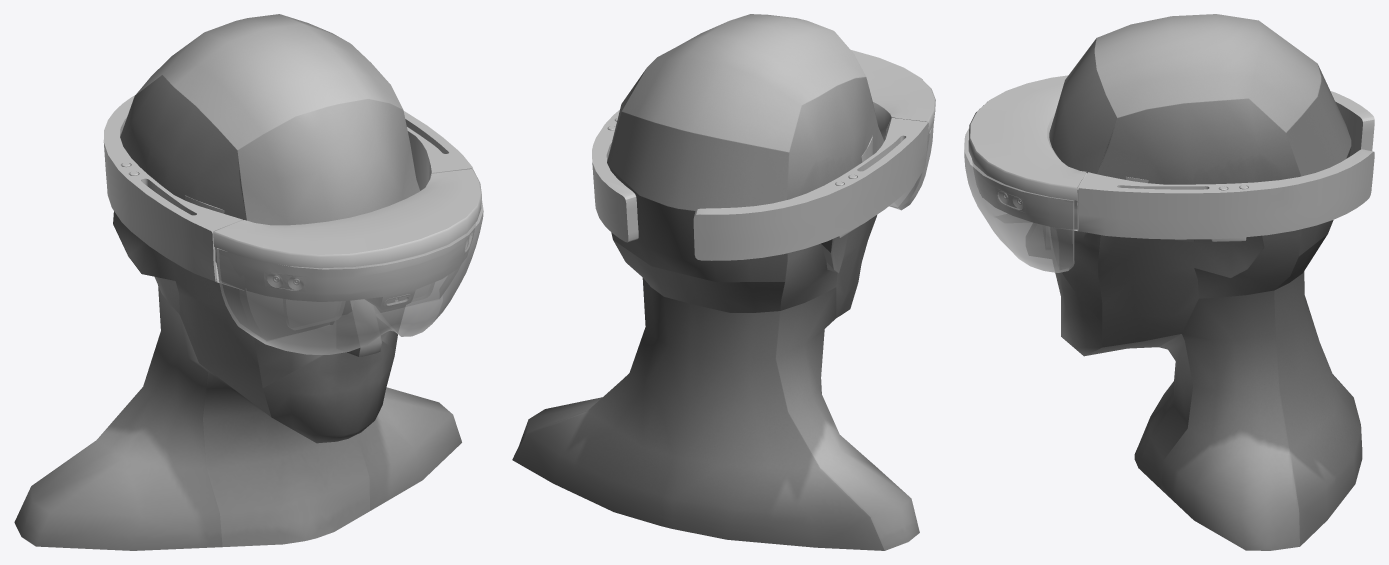
Rendered from Avatar_Hololens.fbx.
The picture shows the model from 3 angles, left to right: view 1: azimuth 30°, elevation 25°; view 2: azimuth 150°, elevation 25°; view 3: azimuth 270°, elevation 25°; orthographic projection. The views are drawn at different scales.
Visible parts, largest first — view 1: avatar, Hololens, Visor; view 2: avatar, Hololens, Visor; view 3: avatar, Hololens, Visor.
Boxes of the visible parts, x1,y1,x2,y2 form: avatar: [14, 14, 461, 550]; Hololens: [103, 95, 481, 309]; Visor: [216, 199, 483, 354]; avatar: [512, 14, 919, 550]; Hololens: [592, 50, 935, 260]; Visor: [889, 124, 933, 210]; avatar: [1026, 14, 1362, 550]; Hololens: [968, 75, 1374, 241]; Visor: [964, 128, 1074, 272].
Size of the model in its own units: 0.323 by 0.3439 by 0.2978.
